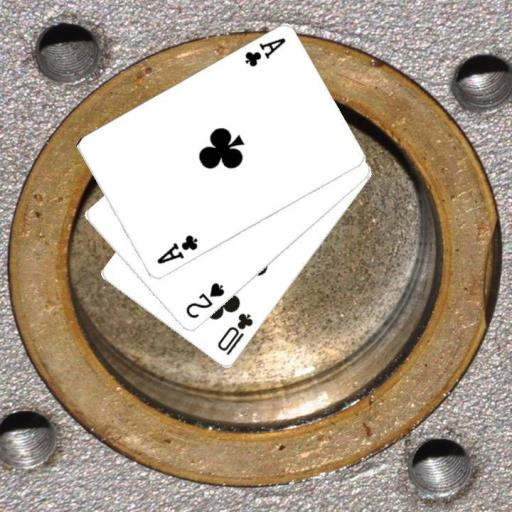10C: (214, 310, 255, 358)
2S: (182, 280, 226, 321)
AC: (153, 232, 199, 266), (241, 35, 287, 69)
